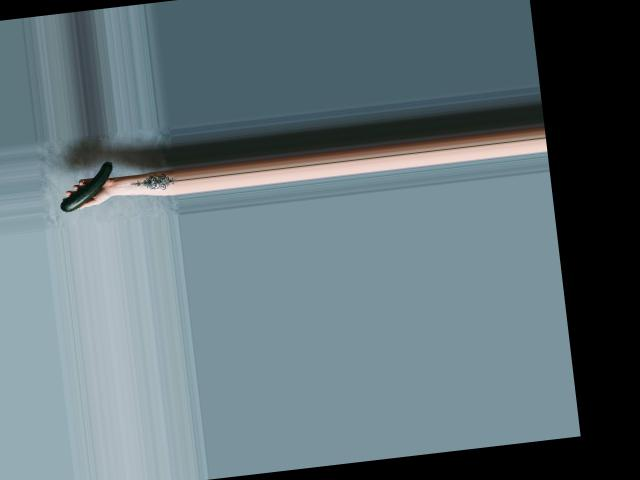cucumber: (55, 161, 116, 212)
